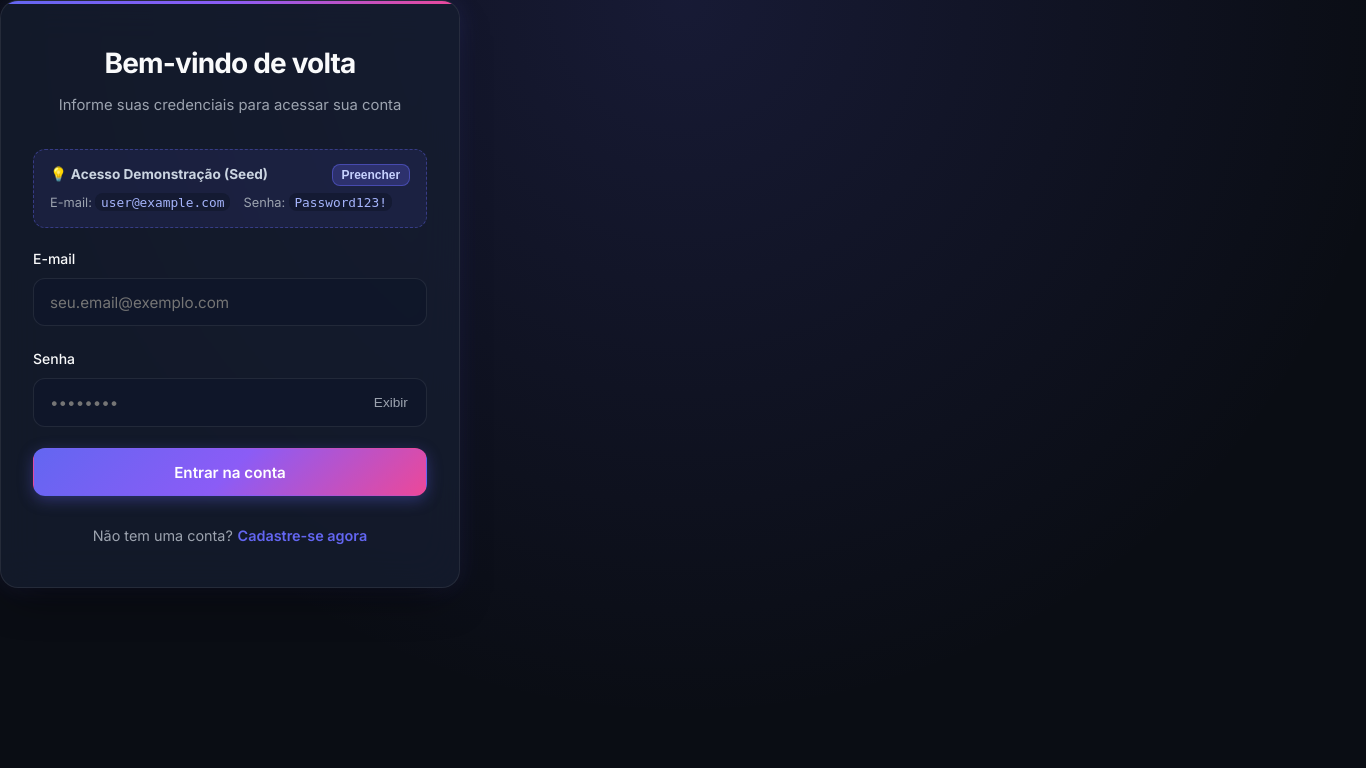
LoginForm Unit Tests › valida formato inválido de e-mail
Type "emailinvalido" into the field with test id "input-email" at (230, 302), box [33,278,427,326]
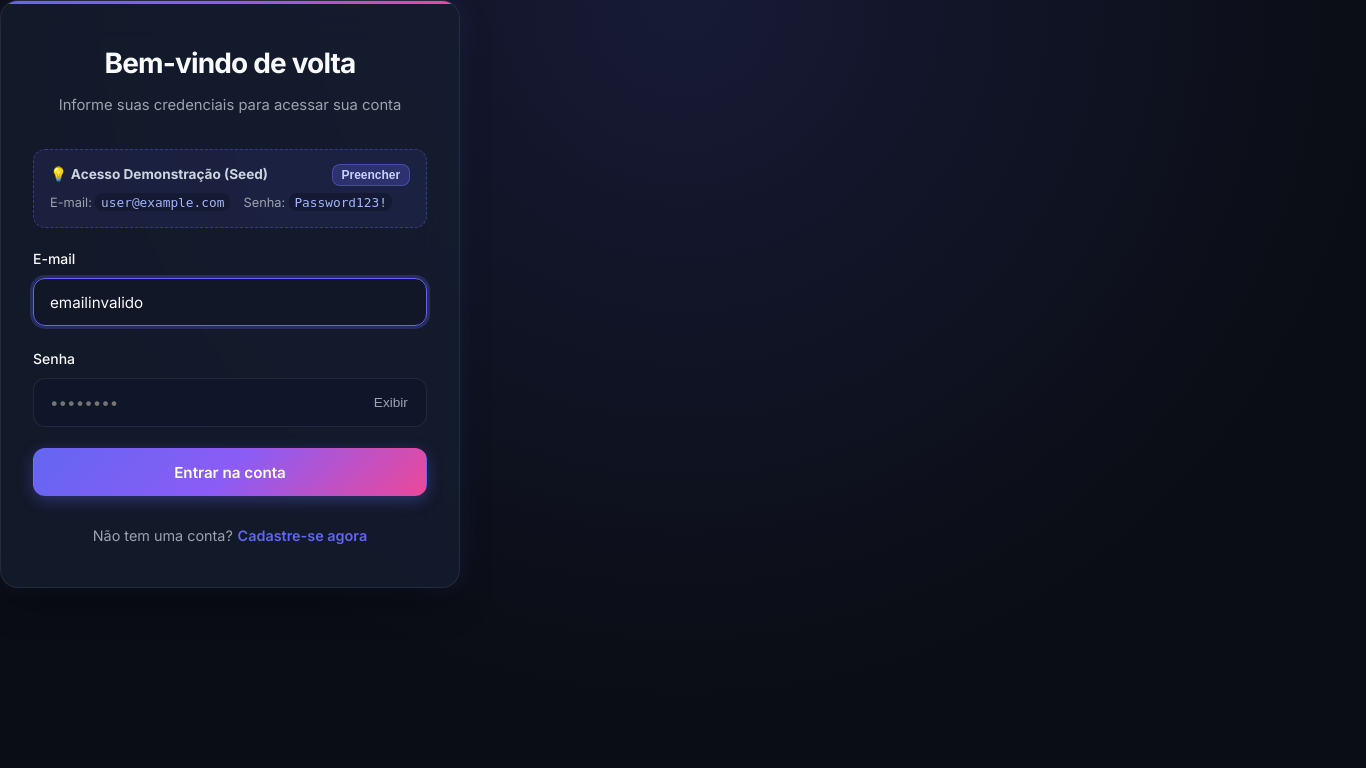
Type "senha123" into the password field with test id "input-password" at (230, 403), box [33,378,427,427]
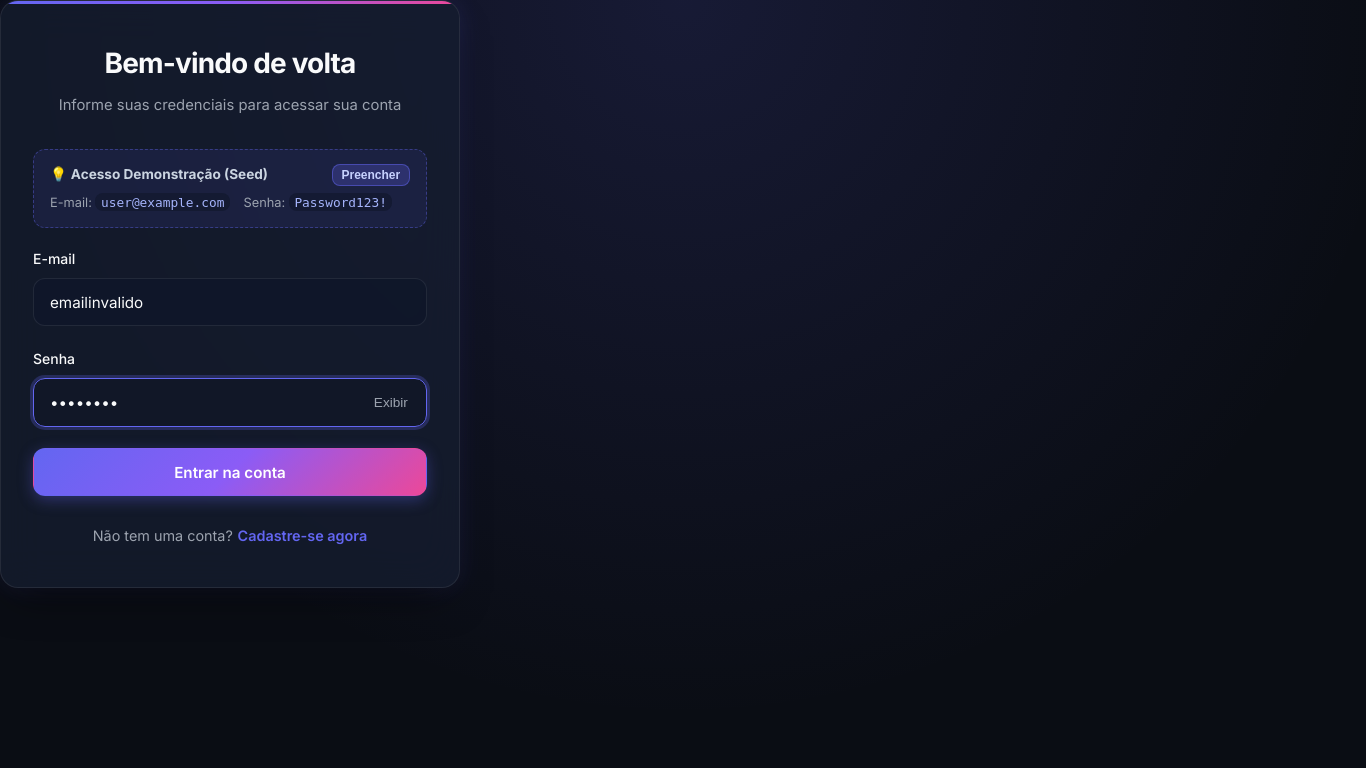
Click the button with test id "submit-login-button" at (230, 472), box [33,448,427,496]
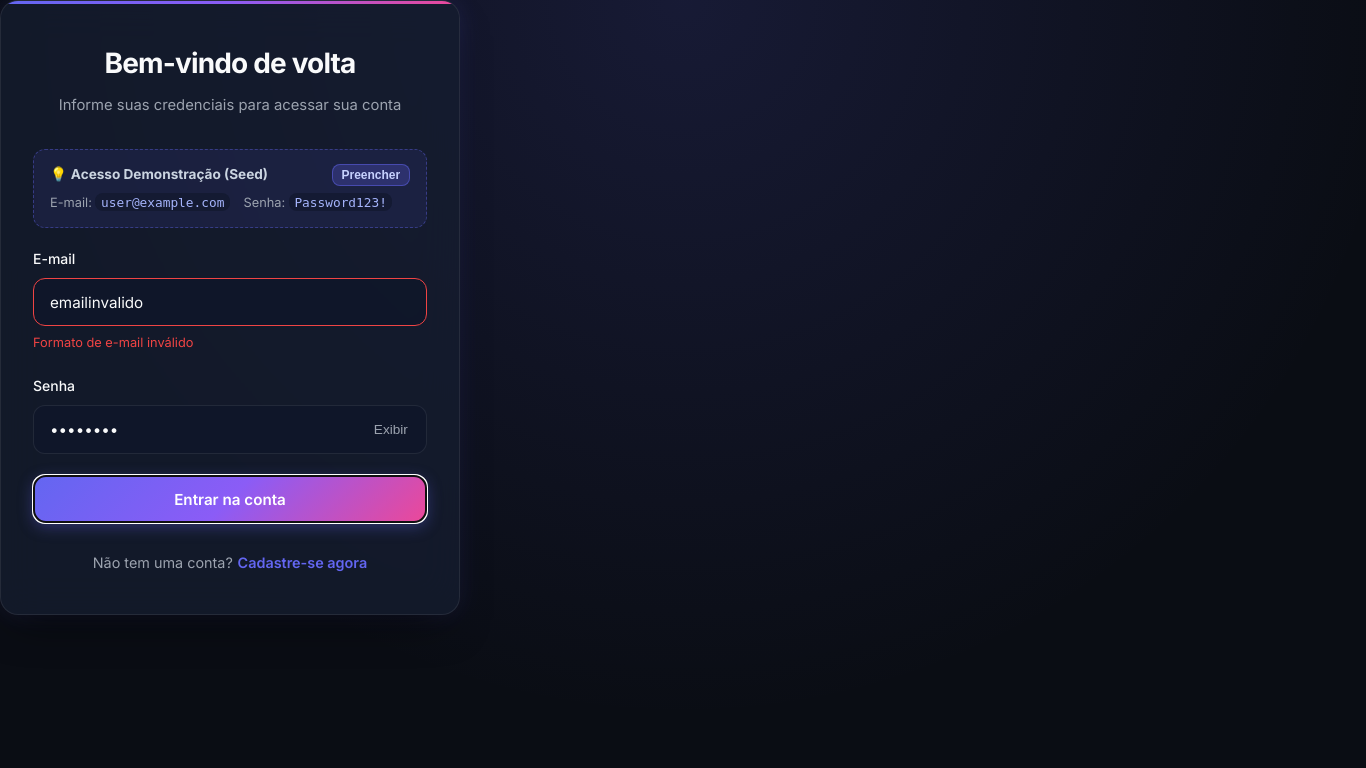
Now the text with test id "email-error" reads "Formato de e-mail inválido", box [33,335,193,350]
